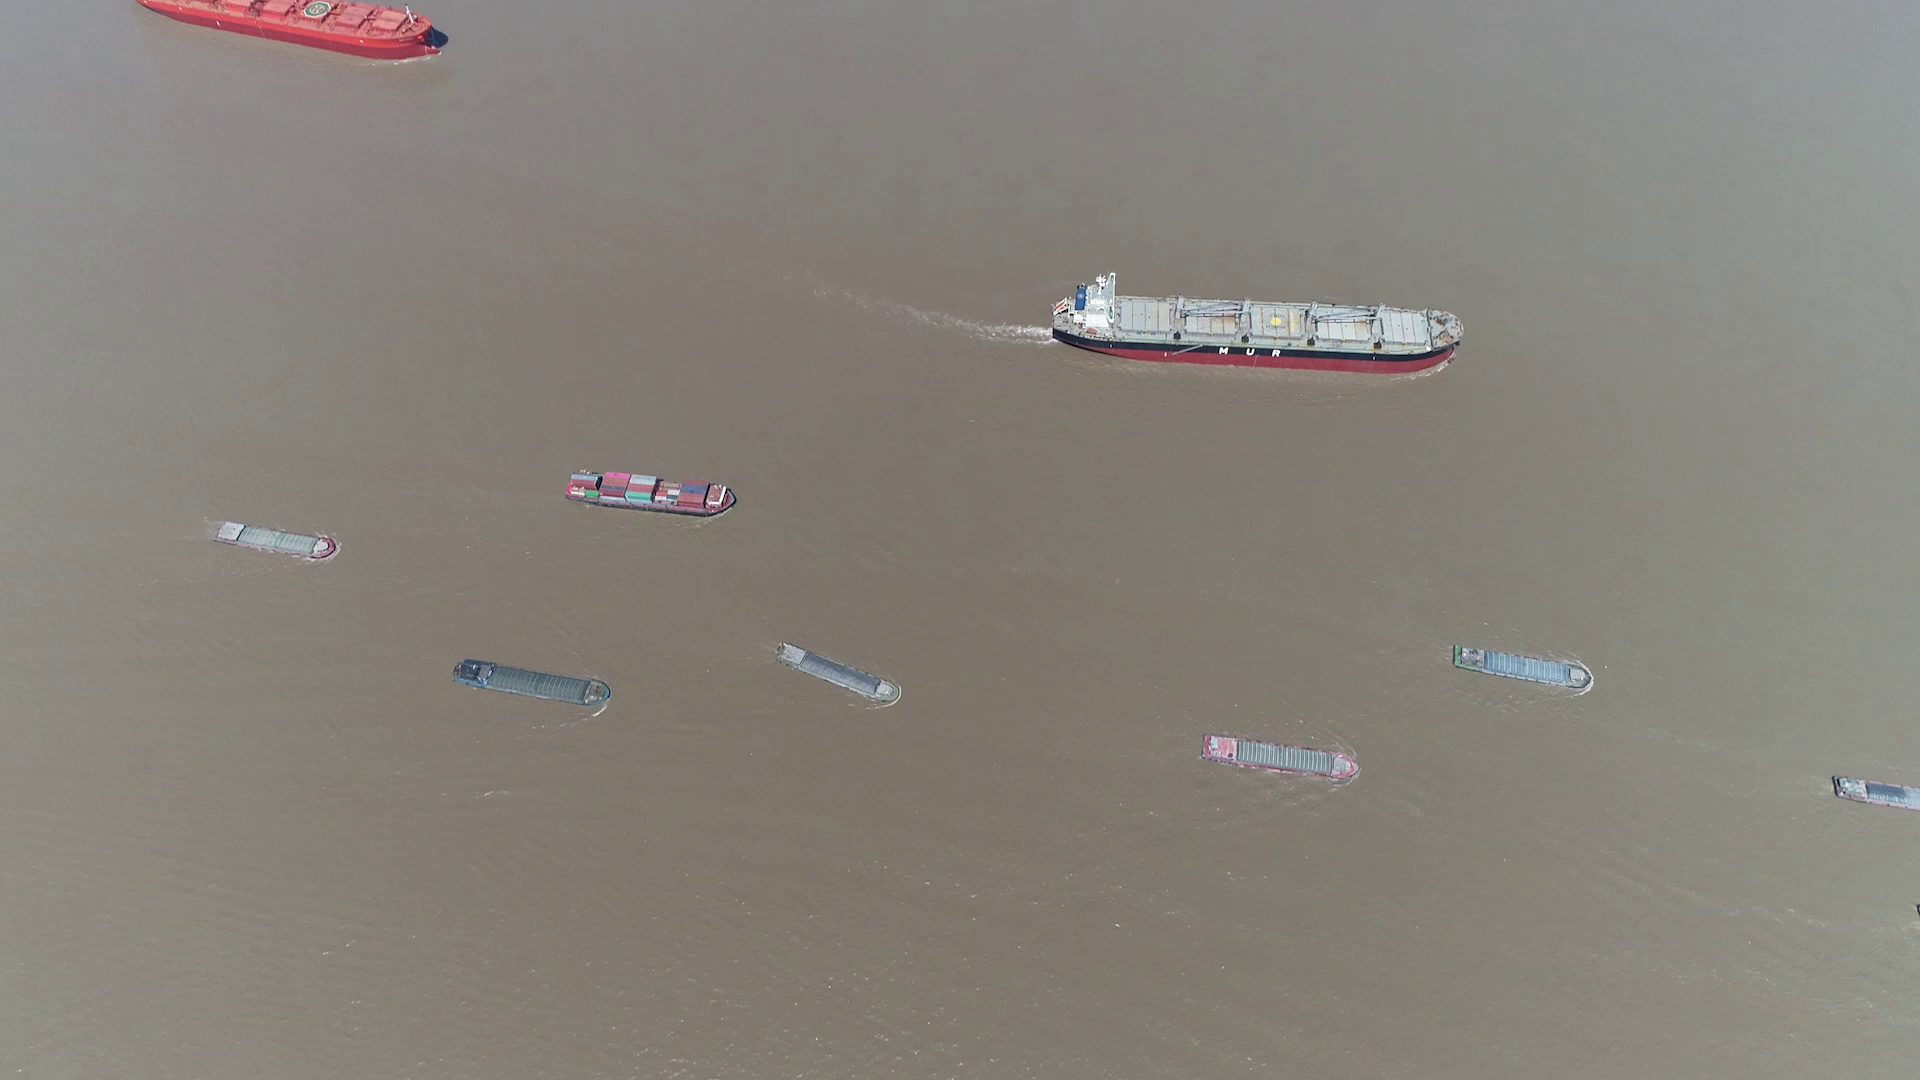ship: (1051, 280, 1462, 375), (140, 0, 444, 61), (564, 469, 737, 516), (454, 659, 613, 707), (779, 644, 899, 704), (1203, 735, 1360, 781), (1453, 644, 1594, 691), (210, 520, 338, 562), (1832, 774, 1919, 810)
